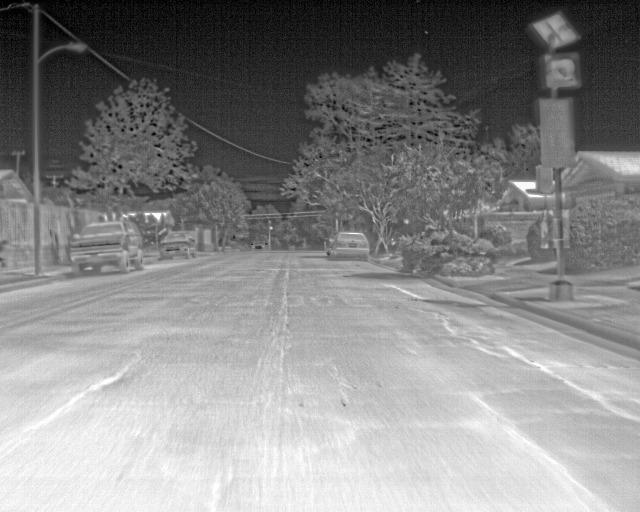car: (69, 220, 144, 277), (328, 231, 369, 261), (159, 232, 197, 259), (251, 240, 269, 251)
light: (552, 59, 576, 81)
sign: (539, 99, 574, 168), (543, 210, 569, 248), (536, 166, 553, 194)
